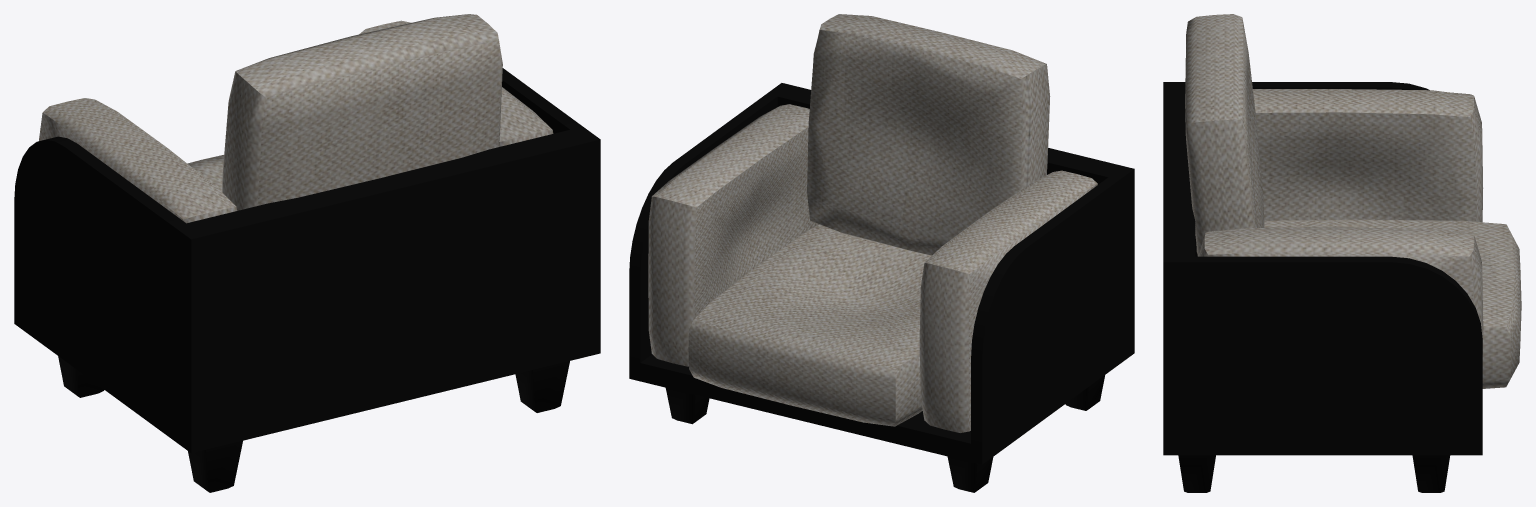
The model's file is furniture_seating_210058.glb.
3 views of the same model, side by side, from view 1: azimuth 30°, elevation 25°; view 2: azimuth 150°, elevation 25°; view 3: azimuth 270°, elevation 25° (orthographic). The views are drawn at different scales.
Visible parts, largest first — view 1: furniture_seating_210058; view 2: furniture_seating_210058; view 3: furniture_seating_210058.
Boxes of the visible parts, <box> form: furniture_seating_210058: <box>14,14,600,492</box>; furniture_seating_210058: <box>629,14,1134,492</box>; furniture_seating_210058: <box>1163,14,1521,492</box>.
Bounding box in the file's own units: 0.9557 × 0.8823 × 0.8029.
Materials: 1 (1 with a texture image).
